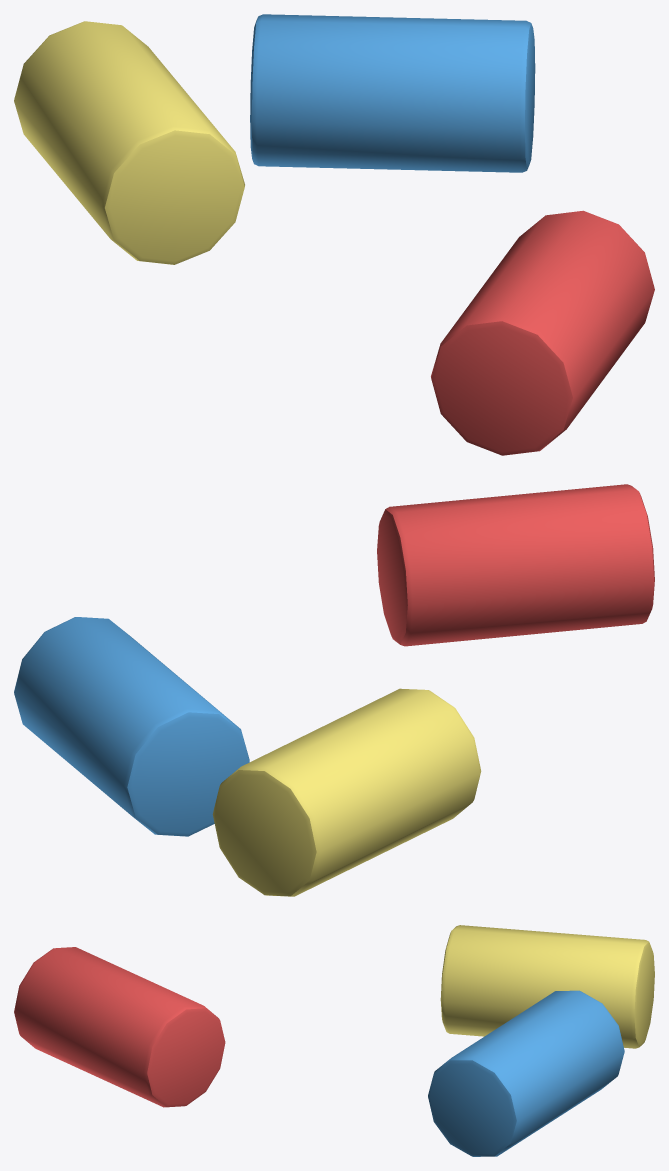
Rendered from sd_latas.glb.
The picture shows the model from 3 angles, top to bottom: view 1: azimuth 30°, elevation 25°; view 2: azimuth 150°, elevation 25°; view 3: azimuth 270°, elevation 25°; orthographic projection. The views are drawn at different scales.
Parts seen in each view (by area): view 1: Cylinder; view 2: Cylinder; view 3: Cylinder.
Part boxes in pixels (x1,y1,x2,y2): Cylinder: (14, 14, 654, 455); Cylinder: (14, 484, 654, 896); Cylinder: (14, 925, 654, 1156).
Bounding box in the file's own units: 0.2339 × 0.066 × 0.386.
